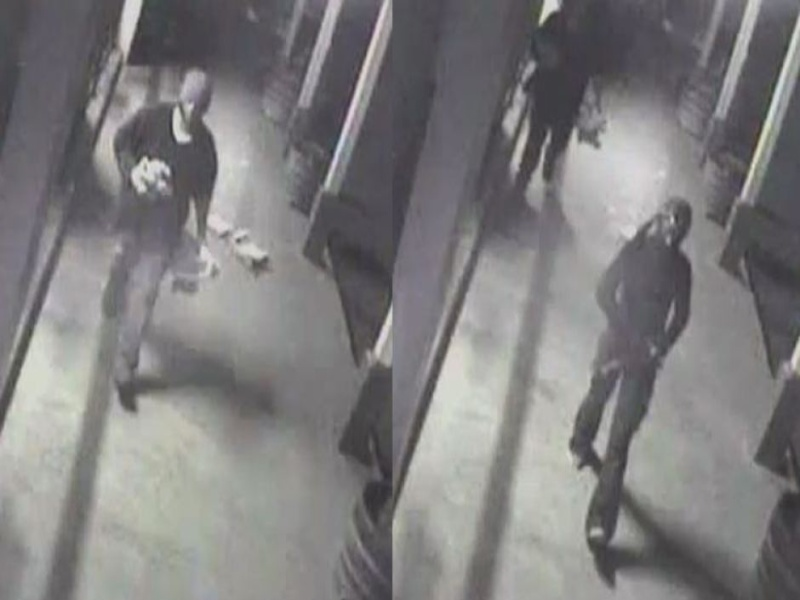person: (554, 187, 707, 552), (82, 52, 234, 415)
